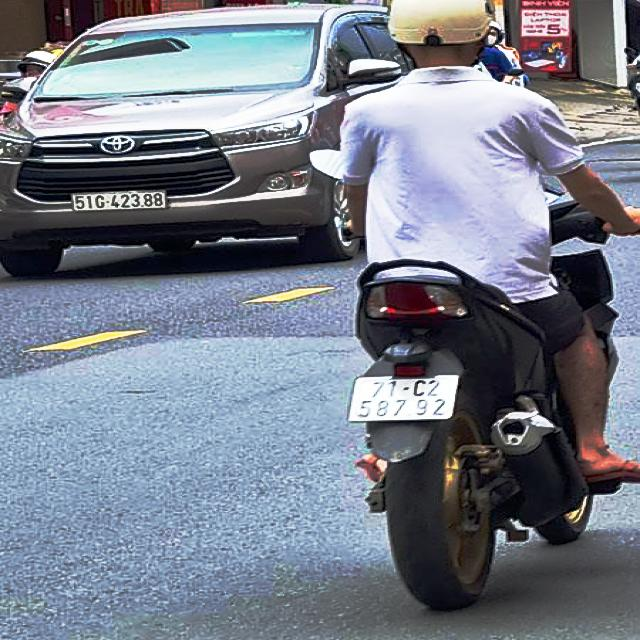license_plate: (351, 375, 458, 423), (72, 189, 168, 212)
